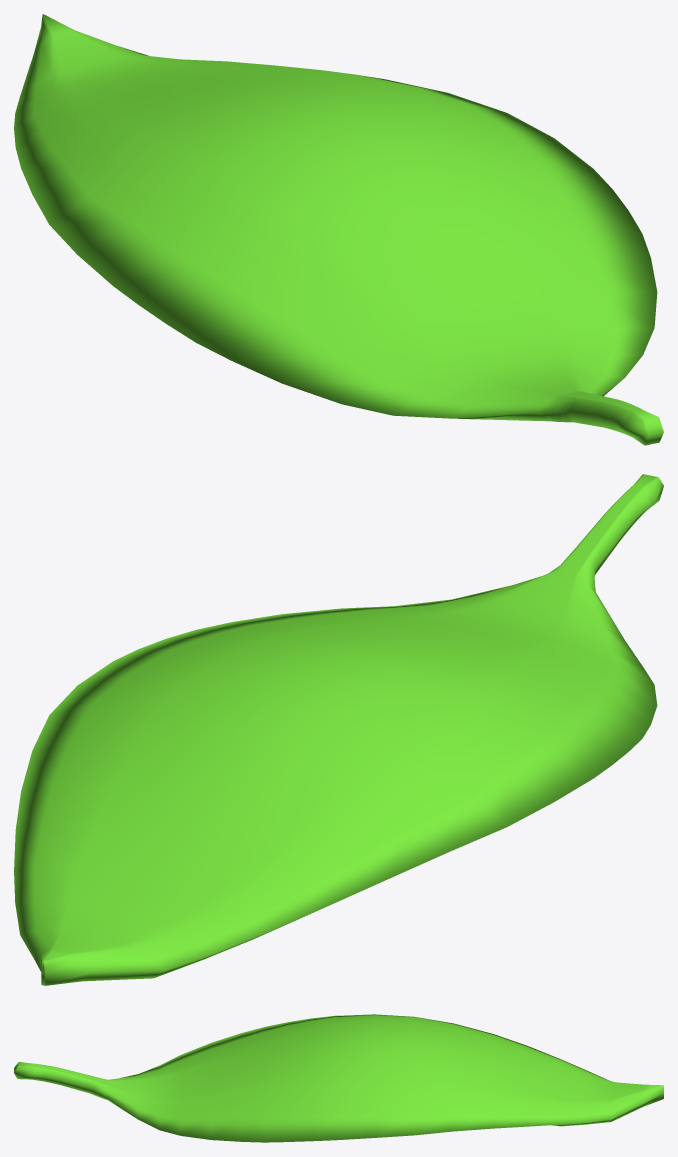
File: Leaf1.glb
3 renders of one model, top to bottom at view 1: azimuth 30°, elevation 25°; view 2: azimuth 150°, elevation 25°; view 3: azimuth 270°, elevation 25°, orthographic. The views are drawn at different scales.
Parts seen in each view (by area): view 1: Plane; view 2: Plane; view 3: Plane.
Boxes of the visible parts, bbox=[...] form: Plane: bbox=[14, 14, 663, 445]; Plane: bbox=[14, 474, 663, 985]; Plane: bbox=[14, 1014, 663, 1142].
Size of the model in its own units: 3.7 by 0.9267 by 8.16.
